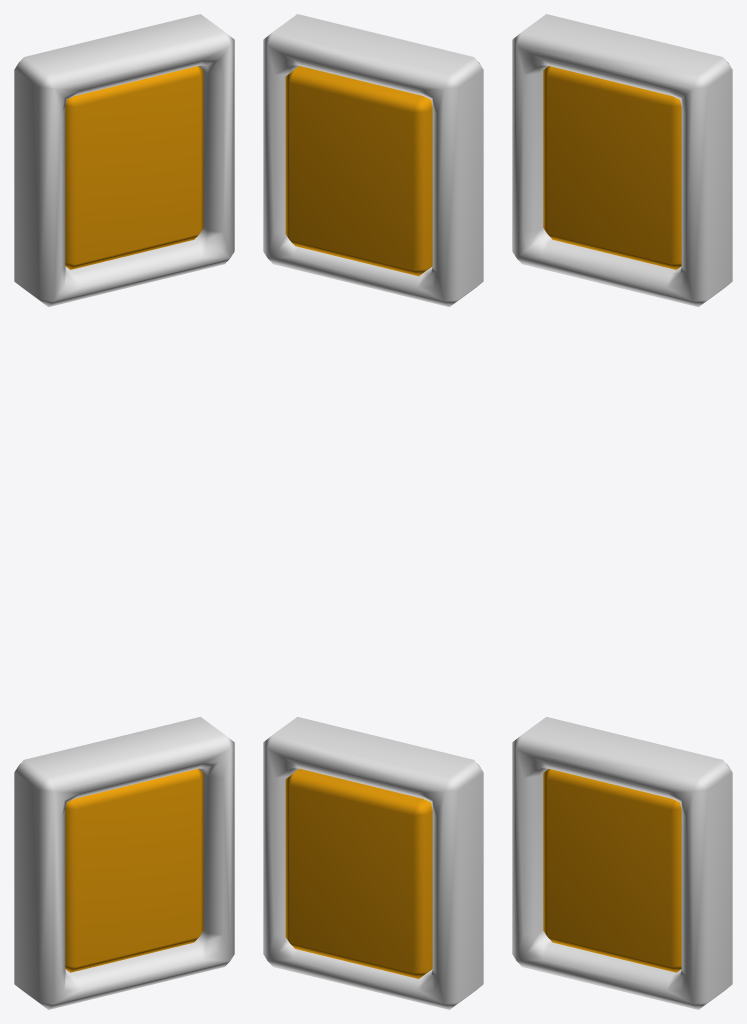
File: SM_Clay_Window_04.fbx
The picture shows the model from 3 angles, left to right: view 1: azimuth 30°, elevation 25°; view 2: azimuth 150°, elevation 25°; view 3: azimuth 330°, elevation 25°; orthographic projection.
Visible parts, largest first — view 1: SM_Clay_Window_04; view 2: SM_Clay_Window_04; view 3: SM_Clay_Window_04.
Part boxes in pixels (bbox=[...]): SM_Clay_Window_04: bbox=[14, 14, 234, 1009]; SM_Clay_Window_04: bbox=[263, 14, 483, 1009]; SM_Clay_Window_04: bbox=[512, 14, 732, 1009].
Size of the model in its own units: 0.2926 by 1.34 by 0.1029.
